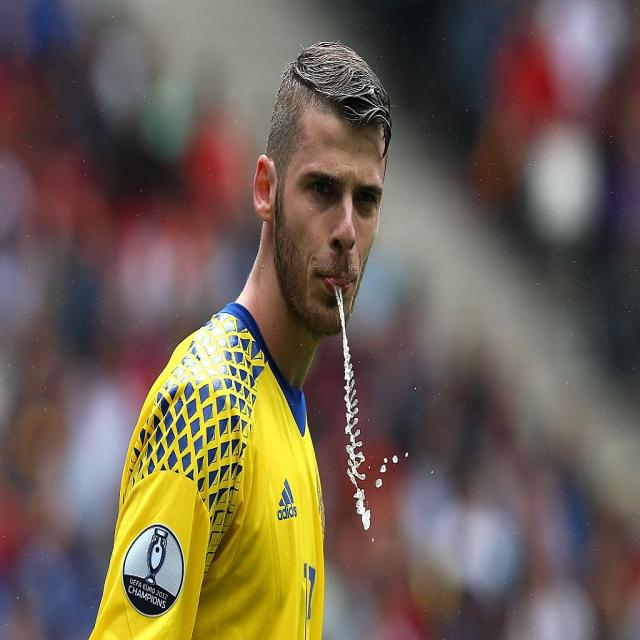Spitting: (249, 41, 392, 420)
